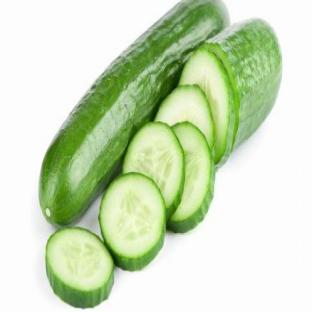Cucumber: (40, 0, 228, 226), (181, 19, 282, 162), (180, 46, 234, 165), (100, 173, 165, 270), (122, 122, 185, 219), (46, 228, 113, 307), (168, 123, 214, 232), (155, 85, 214, 150)
